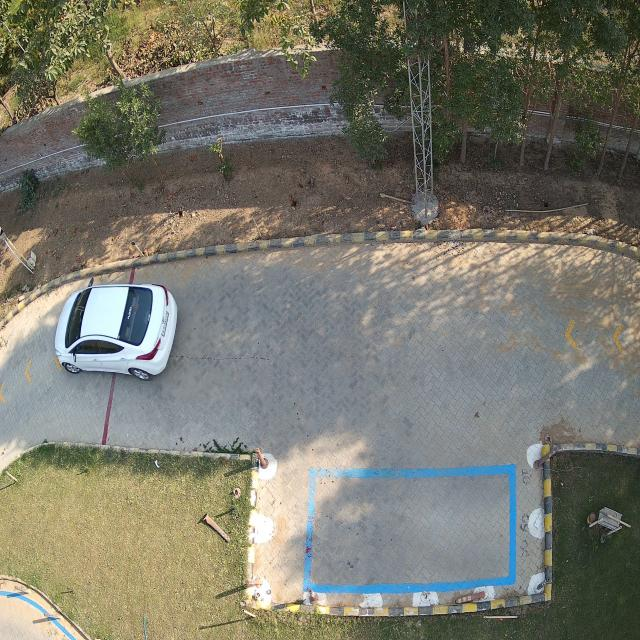car: (55, 283, 178, 380)
